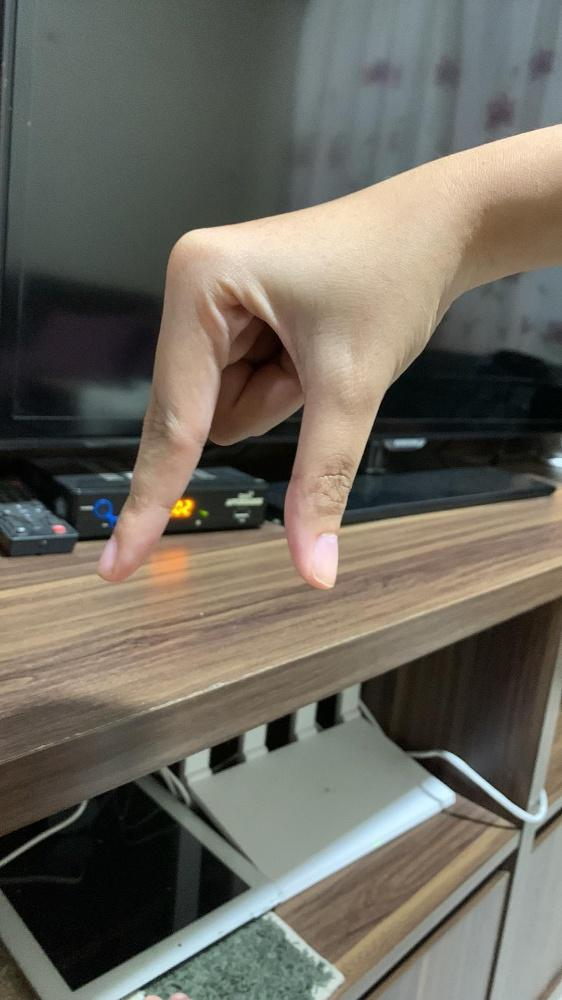q: (93, 185, 389, 590)
